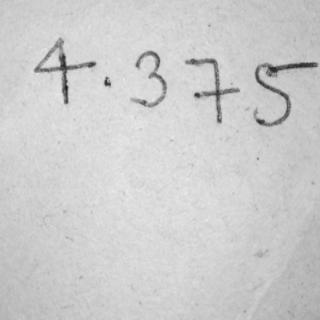.: (100, 70, 118, 91)
3: (133, 50, 169, 107)
4: (34, 34, 97, 104)
5: (251, 57, 319, 128)
7: (181, 55, 240, 126)
